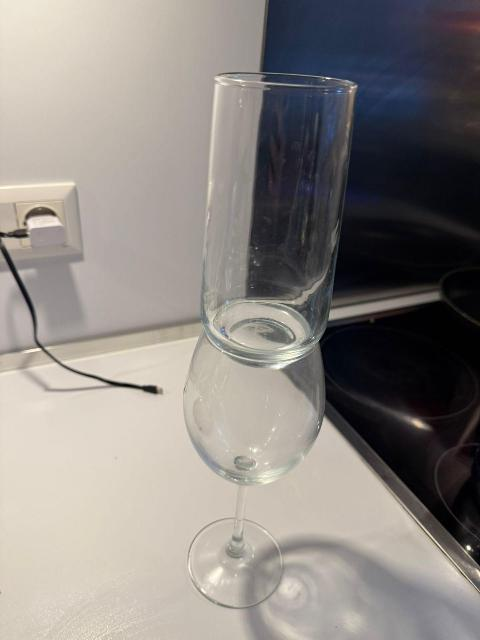Cam: (197, 60, 348, 360), (187, 328, 329, 607)
